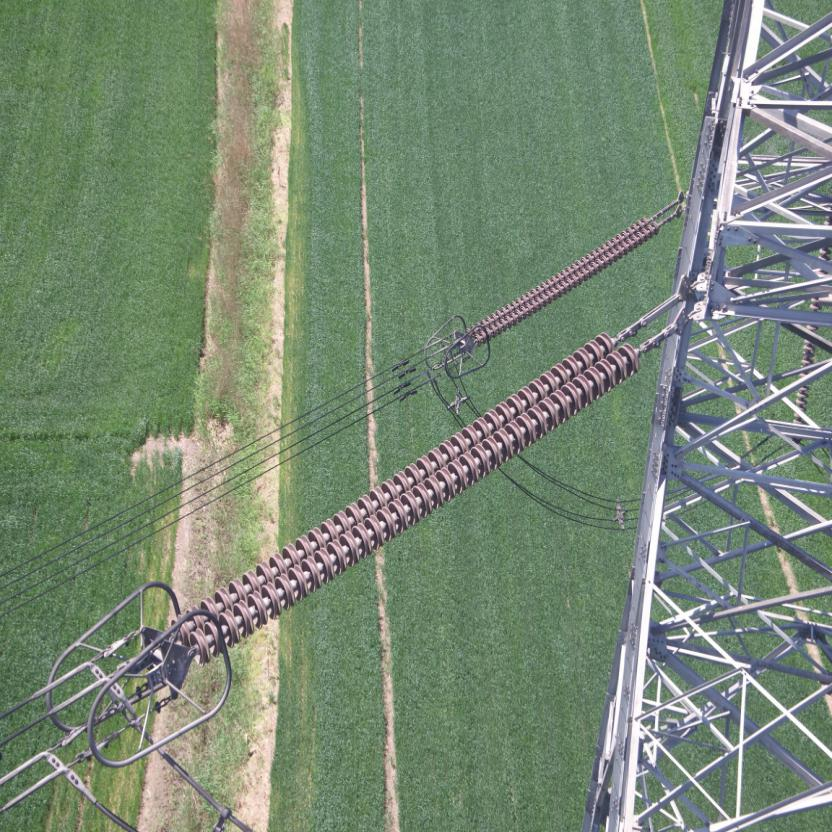insulator: (163, 318, 669, 670), (464, 204, 672, 346)
